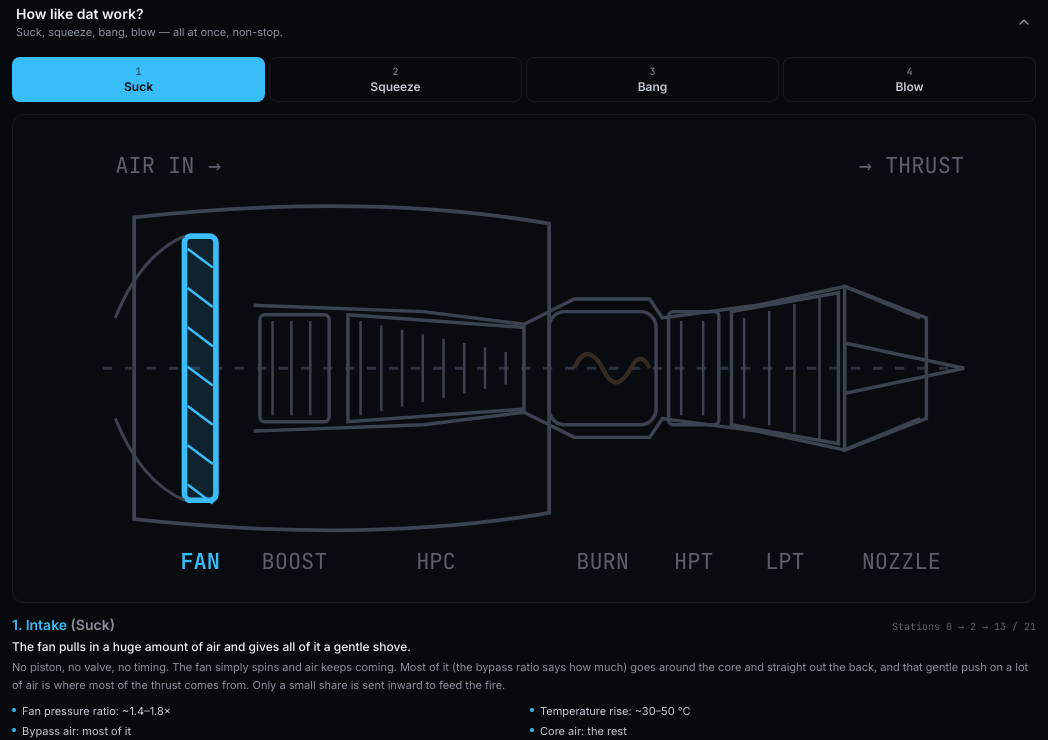
Test case: HowTurbofanWork › walks the four phases and can push a phase into the 3D view
The width and height of the screenshot is (1048, 740).
Expected: the text "The fan pulls in a huge amount of air and gives all of it a gentle shove." is shown, x1=12 y1=639 x2=411 y2=654
Click the button "2 Squeeze" at {"x": 396, "y": 79}, box x1=269 y1=56 x2=522 y2=102
(page scrolled)
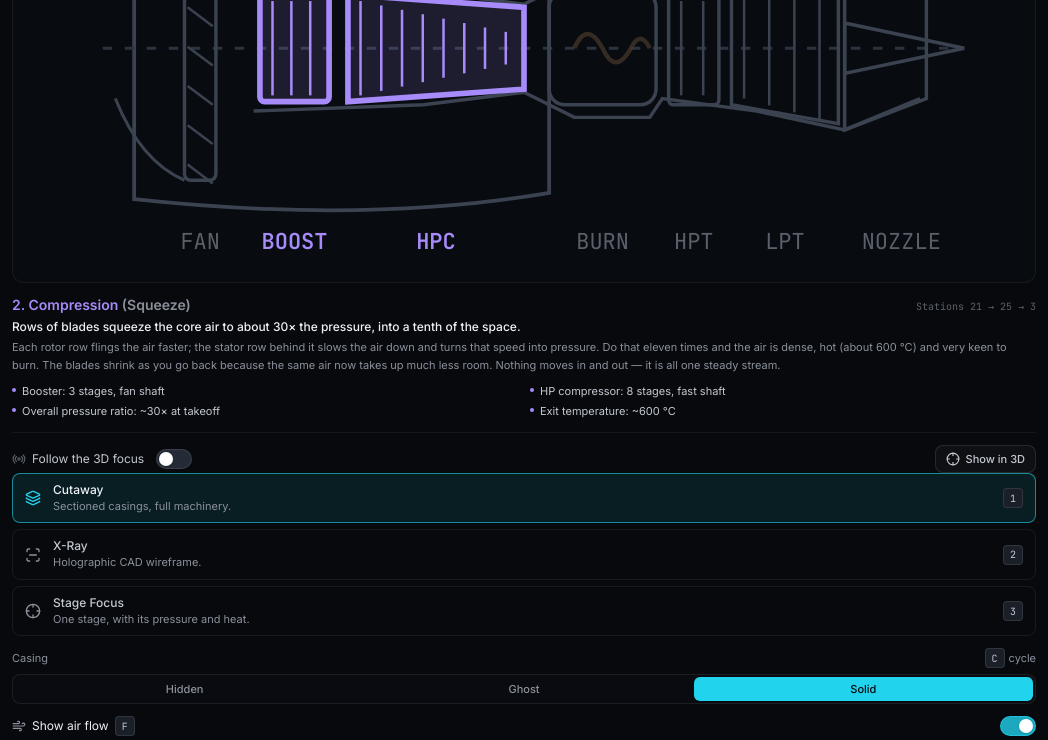
Now the text "Rows of blades squeeze the core air to about 30× the pressure, into a tenth of the space." is shown, box x1=12 y1=319 x2=520 y2=334
Click the button "Show in 3D" at {"x": 985, "y": 459}, box x1=935 y1=445 x2=1036 y2=473
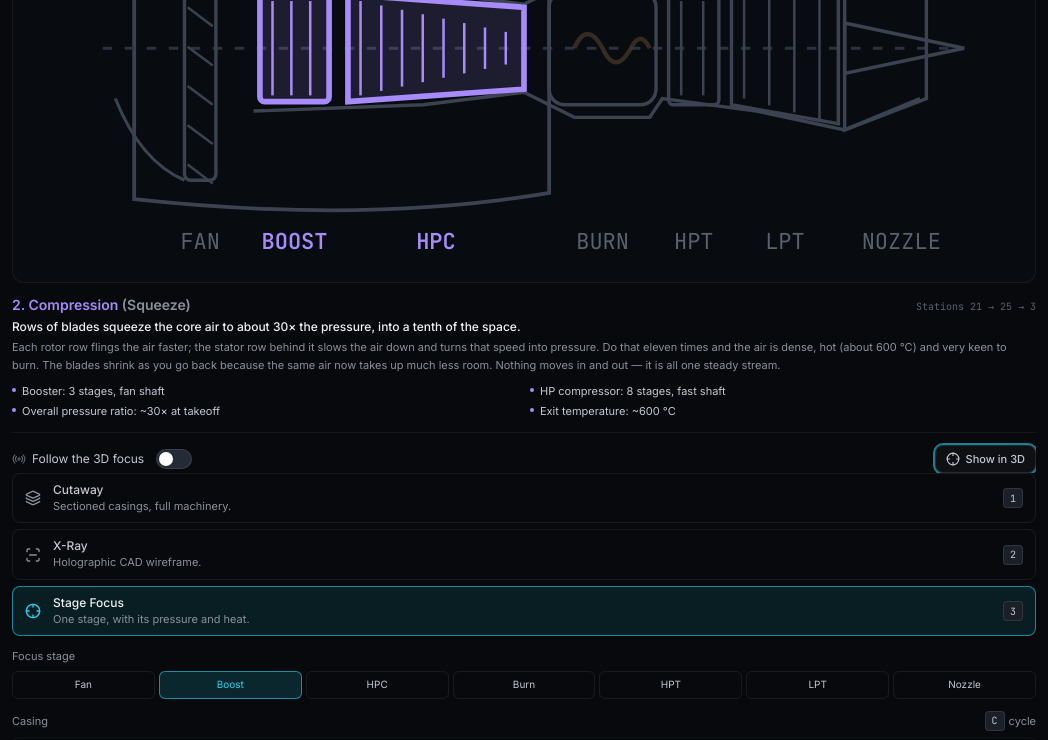
Now the text "Focus stage" is shown, box x1=12 y1=649 x2=75 y2=663
